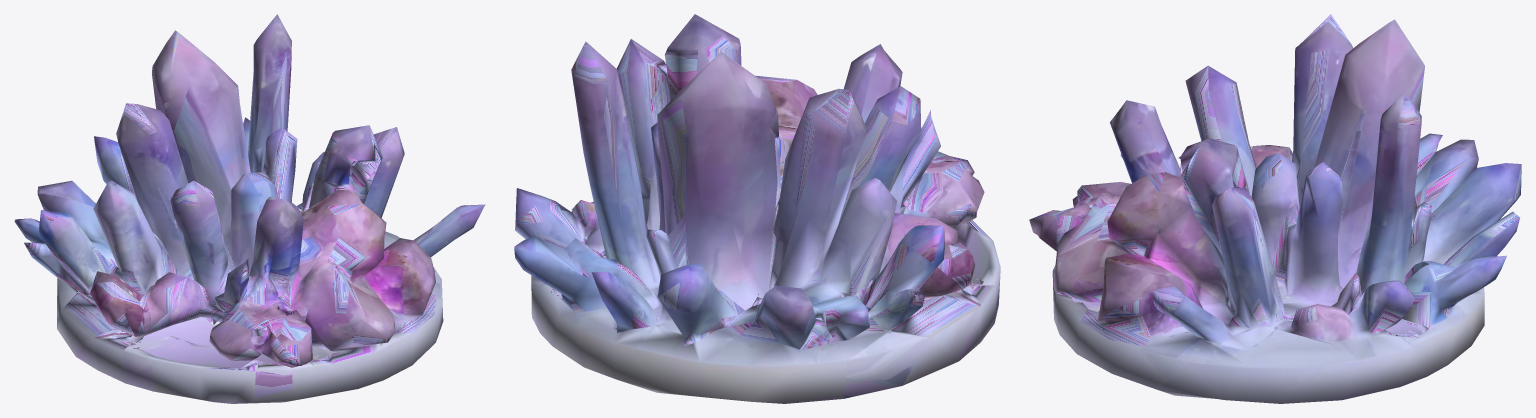
File: A_garden_of_cryst.glb
3 renders of one model, left to right at view 1: azimuth 30°, elevation 25°; view 2: azimuth 150°, elevation 25°; view 3: azimuth 270°, elevation 25°, orthographic. The views are drawn at different scales.
Visible parts, largest first — view 1: A_garden_of_cryst; view 2: A_garden_of_cryst; view 3: A_garden_of_cryst.
Boxes of the visible parts, <box> form: A_garden_of_cryst: <box>14,14,485,403</box>; A_garden_of_cryst: <box>514,14,1000,403</box>; A_garden_of_cryst: <box>1029,14,1521,403</box>.
Bounding box in the file's own units: 1.88 × 1.27 × 1.99.
Materials: 1 (1 with a texture image).
